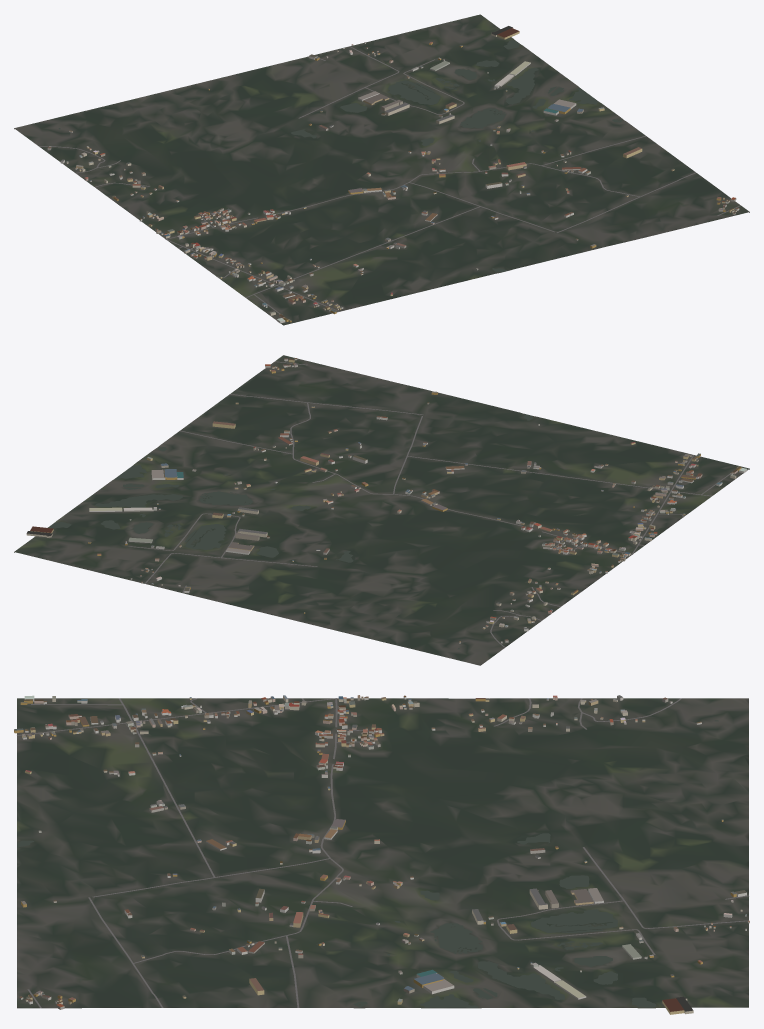
The picture shows the model from 3 angles, top to bottom: view 1: azimuth 30°, elevation 25°; view 2: azimuth 150°, elevation 25°; view 3: azimuth 270°, elevation 25°; orthographic projection. The views are drawn at different scales.
Parts seen in each view (by area): view 1: ground, buildings, water, roads; view 2: ground, buildings, water, roads; view 3: ground, buildings, water, roads.
Boxes of the visible parts, x1,y1,x2,y2 form: ground: [14, 14, 749, 325]; buildings: [47, 26, 739, 323]; water: [58, 40, 684, 272]; roads: [39, 46, 740, 313]; ground: [14, 355, 749, 665]; buildings: [26, 358, 747, 643]; water: [50, 382, 533, 649]; roads: [128, 361, 730, 647]; ground: [17, 698, 748, 1008]; buildings: [14, 695, 749, 1014]; water: [17, 720, 718, 1007]; roads: [17, 698, 748, 1008].
Bounding box in the file's own units: 1435 × 14.45 × 1409.
